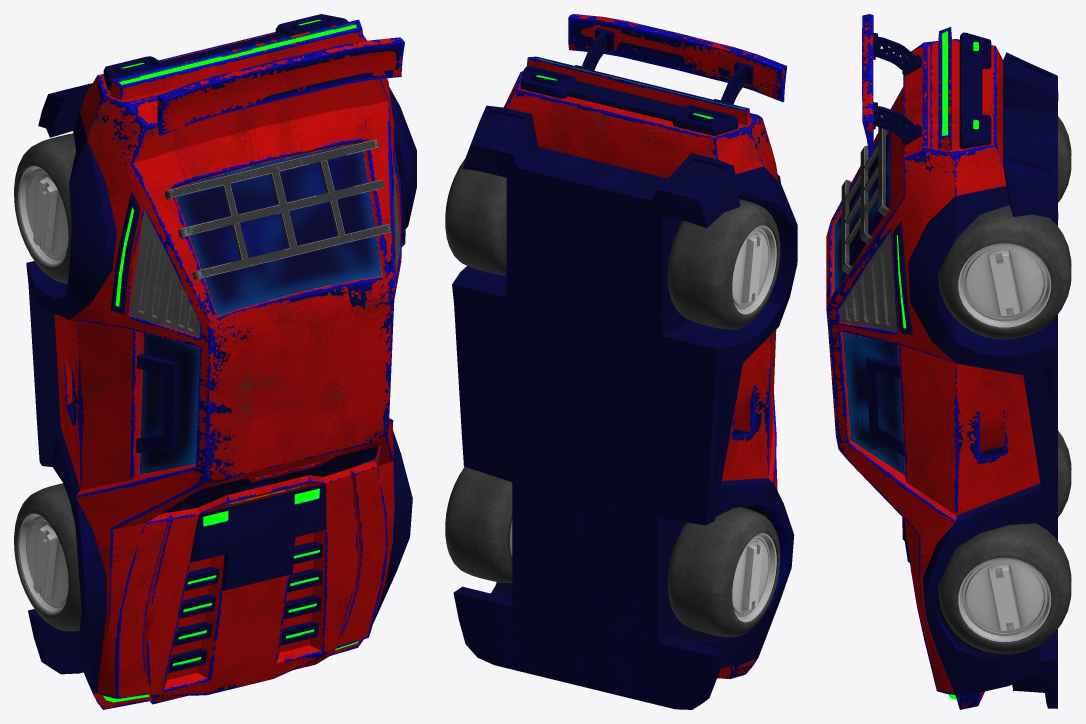
File: car.gltf
3 renders of one model, left to right at view 1: azimuth 30°, elevation 25°; view 2: azimuth 150°, elevation 25°; view 3: azimuth 270°, elevation 25°, orthographic. The views are drawn at different scales.
Visible parts, largest first — view 1: Plane, Plane.007, Circle.003, Circle.004; view 2: Plane, Circle.003, Circle.004, Circle.002, Circle.001; view 3: Plane, Circle.002, Circle.001, Plane.007, Circle.003, Circle.004.
Part boxes in pixels (box(x1,y1,x2,y2)): Plane: box(26, 14, 416, 709); Plane.007: box(129, 139, 400, 336); Circle.003: box(14, 483, 81, 631); Circle.004: box(14, 133, 75, 283); Plane: box(452, 14, 797, 709); Circle.003: box(668, 507, 780, 637); Circle.004: box(668, 199, 780, 329); Circle.002: box(445, 467, 512, 582); Circle.001: box(445, 158, 506, 275); Plane: box(826, 14, 1058, 709); Circle.002: box(938, 523, 1071, 653); Circle.001: box(938, 205, 1071, 339); Plane.007: box(840, 116, 897, 332); Circle.003: box(1058, 431, 1071, 516); Circle.004: box(1058, 116, 1071, 202).
Size of the model in its own units: 1.1 by 2.01 by 0.7464.
3 materials, 3 textured.
